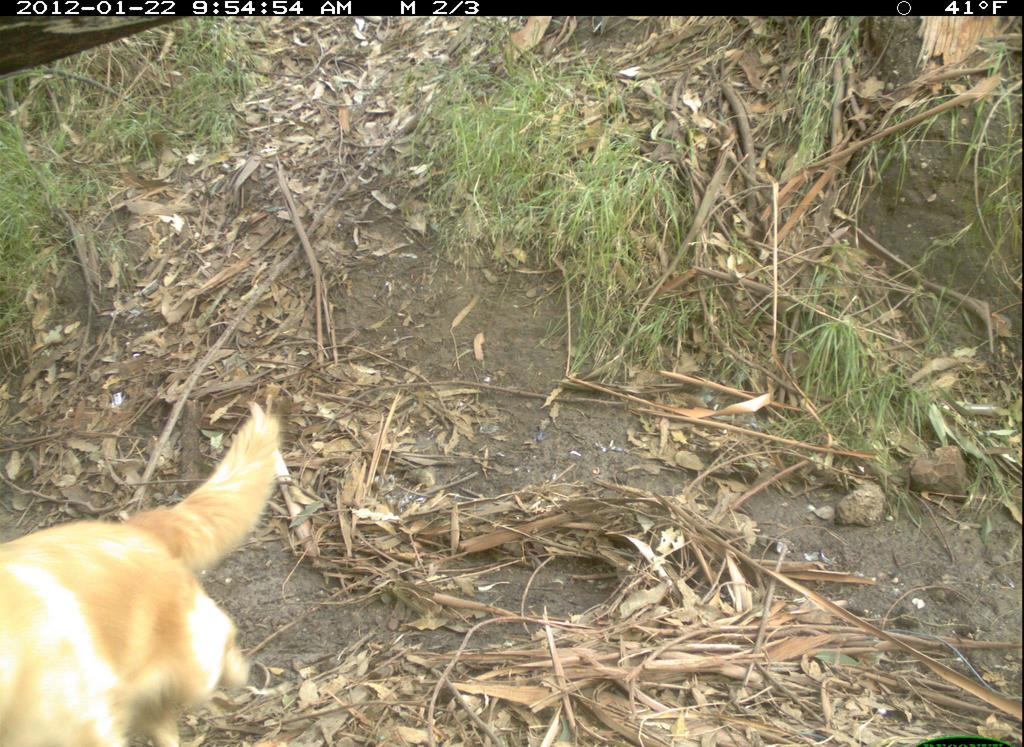dog: (7, 397, 291, 747)
